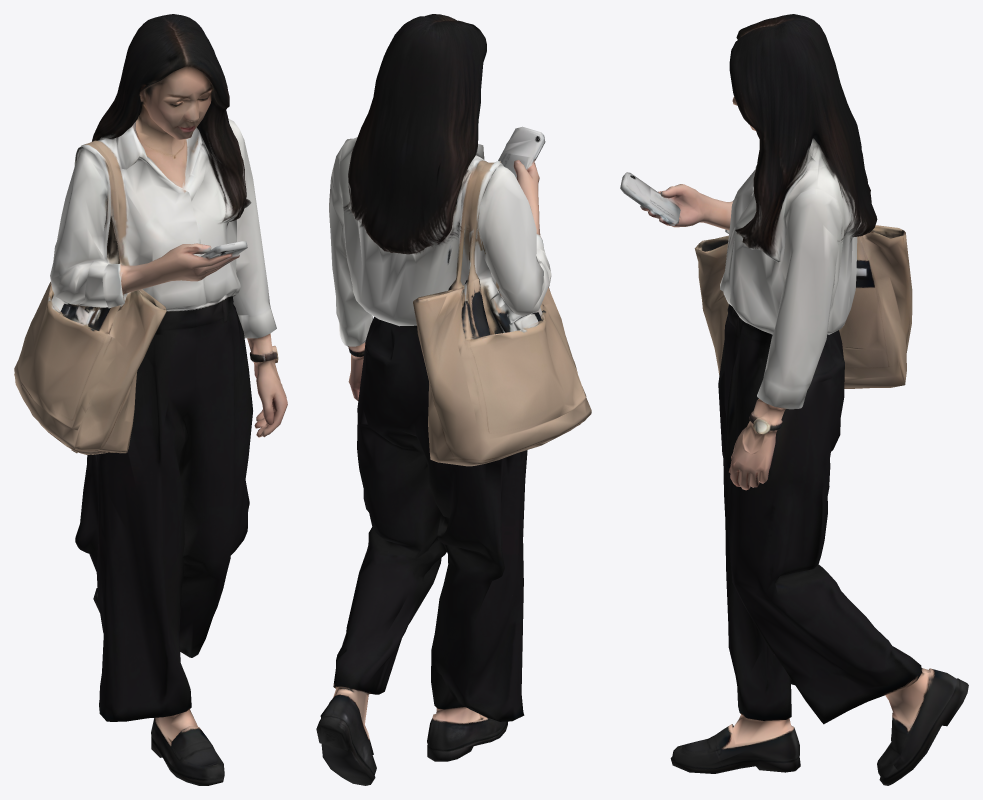
The model's file is JPGV01_W05_L10k.glb.
The picture shows the model from 3 angles, left to right: view 1: azimuth 30°, elevation 25°; view 2: azimuth 150°, elevation 25°; view 3: azimuth 270°, elevation 25°; orthographic projection. The views are drawn at different scales.
Parts seen in each view (by area): view 1: JPGV01_W05_L10k; view 2: JPGV01_W05_L10k; view 3: JPGV01_W05_L10k.
Boxes of the visible parts, <box> form: JPGV01_W05_L10k: <box>14,14,287,785</box>; JPGV01_W05_L10k: <box>316,14,591,785</box>; JPGV01_W05_L10k: <box>620,14,968,785</box>.
Size of the model in its own units: 0.5489 by 1.66 by 0.6949.
Materials: 1 (1 with a texture image).
